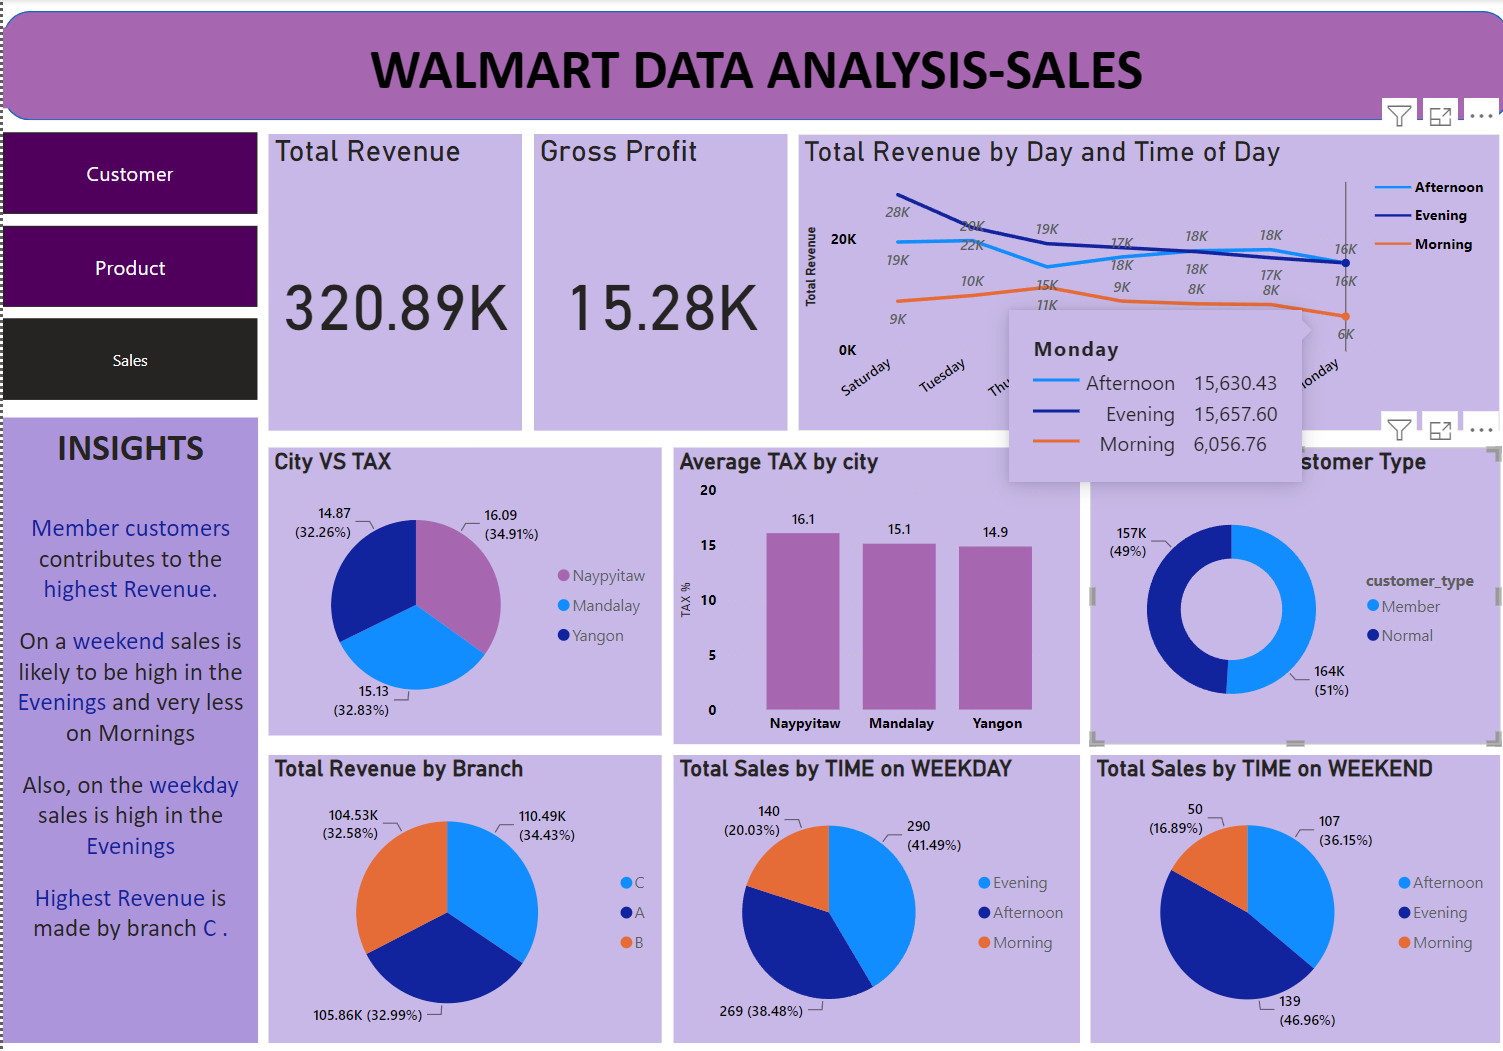

The page's visual inventory and layout, read from the dashboard file:
{"tool":"powerbi","page":{"name":"Sales","canvas":[1281,900],"ordinal":2},"visuals":[{"type":"textbox","box":[0,0,1280,82.1],"z":0},{"type":"shape","box":[0,9.7,1280,93],"z":1000},{"type":"textbox","box":[0,24.2,1280,68.8],"z":2000},{"type":"pageNavigator","box":[0,113.4,216.6,228.1],"z":3000},{"type":"donutChart","title":"Total Revenue by Customer Type","fields":{"Category":["Customer type VS Revenue.customer_type"],"Y":["Sum(Customer type VS Revenue.total_revenue)"]},"box":[923.8,381,347.9,252.3],"z":4000},{"type":"card","title":"Total Revenue","fields":{"Values":["Sum(Customer type VS Revenue.total_revenue)"]},"box":[225.5,114.7,215.3,252.3],"z":5000},{"type":"card","title":"Gross Profit","fields":{"Values":["Sum(Gross Profit.sum(gross_income))"]},"box":[451.1,114.7,215.3,252.3],"z":6000},{"type":"lineChart","title":"Total Revenue by Day and Time of Day","fields":{"Series":["Time and Day of the day vs total revenue.time_of_day"],"Y":["Sum(Time and Day of the day vs total revenue.total_revenue)"],"Category":["Time and Day of the day vs total revenue.day_name"]},"box":[675.3,114.7,596.3,252.3],"z":7000},{"type":"pieChart","title":"Total Revenue by Branch","fields":{"Category":["Branch VS Revenue.branch"],"Y":["Sum(Branch VS Revenue.total_revenue)"]},"box":[225.5,642.2,333.8,244.6],"z":8000},{"type":"columnChart","title":"Average TAX by city","fields":{"Y":["Sum(Customer type VS TAX.avg_tax_pct)"],"Category":["Customer type VS TAX.city"]},"box":[569.6,381,345.3,252.3],"z":9000},{"type":"pieChart","title":"Total Sales by TIME on WEEKDAY","fields":{"Y":["Sum(Time of the day Vs Sales.total_sales)"],"Category":["Time of the day Vs Sales.time_of_day"]},"box":[569.6,642.2,345.3,244.6],"z":10000},{"type":"pieChart","title":"Total Sales by TIME on WEEKEND","fields":{"Series":["Total Sales by TIME on WEEKEND.time_of_day"],"Y":["Sum(Total Sales by TIME on WEEKEND.total_sales)"]},"box":[923.8,642.2,347.9,244.6],"z":11000},{"type":"textbox","box":[0,355.5,216.6,531.3],"z":12000},{"type":"pieChart","title":"City VS TAX","fields":{"Category":["Customer type VS TAX.city"],"Y":["Sum(Customer type VS TAX.avg_tax_pct)"]},"box":[225.5,381,333.8,244.6],"z":13000}]}

Visuals, with their boxes in screenshot pixels (x1, y1, x2, y2), scaled from the page's 1281x900 canvas onto the 1503x1051 screenshot:
textbox: bbox=(0, 0, 1502, 96)
shape: bbox=(0, 11, 1502, 120)
textbox: bbox=(0, 28, 1502, 109)
pageNavigator: bbox=(0, 132, 254, 399)
"Total Revenue by Customer Type" donutChart: bbox=(1084, 445, 1492, 740)
"Total Revenue" card: bbox=(265, 134, 517, 429)
"Gross Profit" card: bbox=(529, 134, 782, 429)
"Total Revenue by Day and Time of Day" lineChart: bbox=(792, 134, 1492, 429)
"Total Revenue by Branch" pieChart: bbox=(265, 750, 656, 1036)
"Average TAX by city" columnChart: bbox=(668, 445, 1073, 740)
"Total Sales by TIME on WEEKDAY" pieChart: bbox=(668, 750, 1073, 1036)
"Total Sales by TIME on WEEKEND" pieChart: bbox=(1084, 750, 1492, 1036)
textbox: bbox=(0, 415, 254, 1036)
"City VS TAX" pieChart: bbox=(265, 445, 656, 731)
